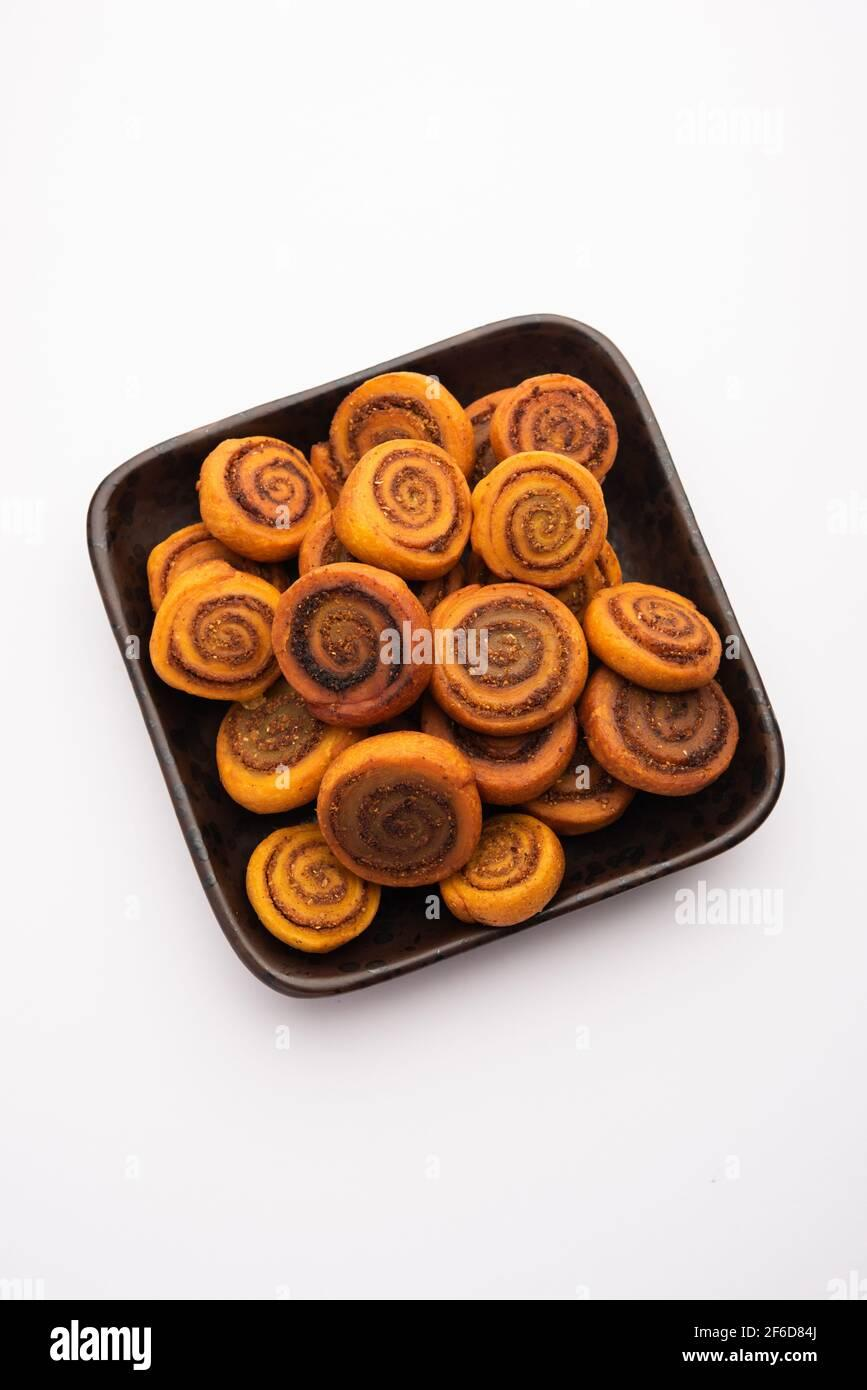bhakarwadi: (102, 350, 736, 981)
